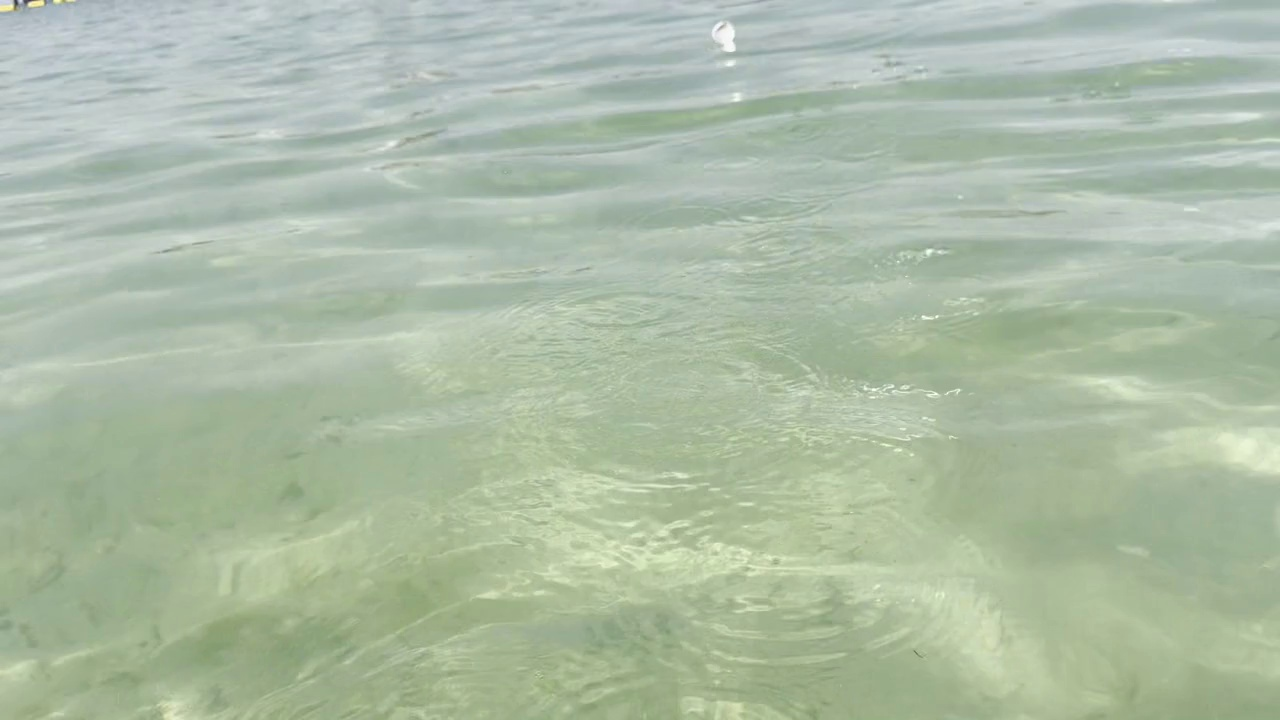debris: (704, 17, 743, 45)
